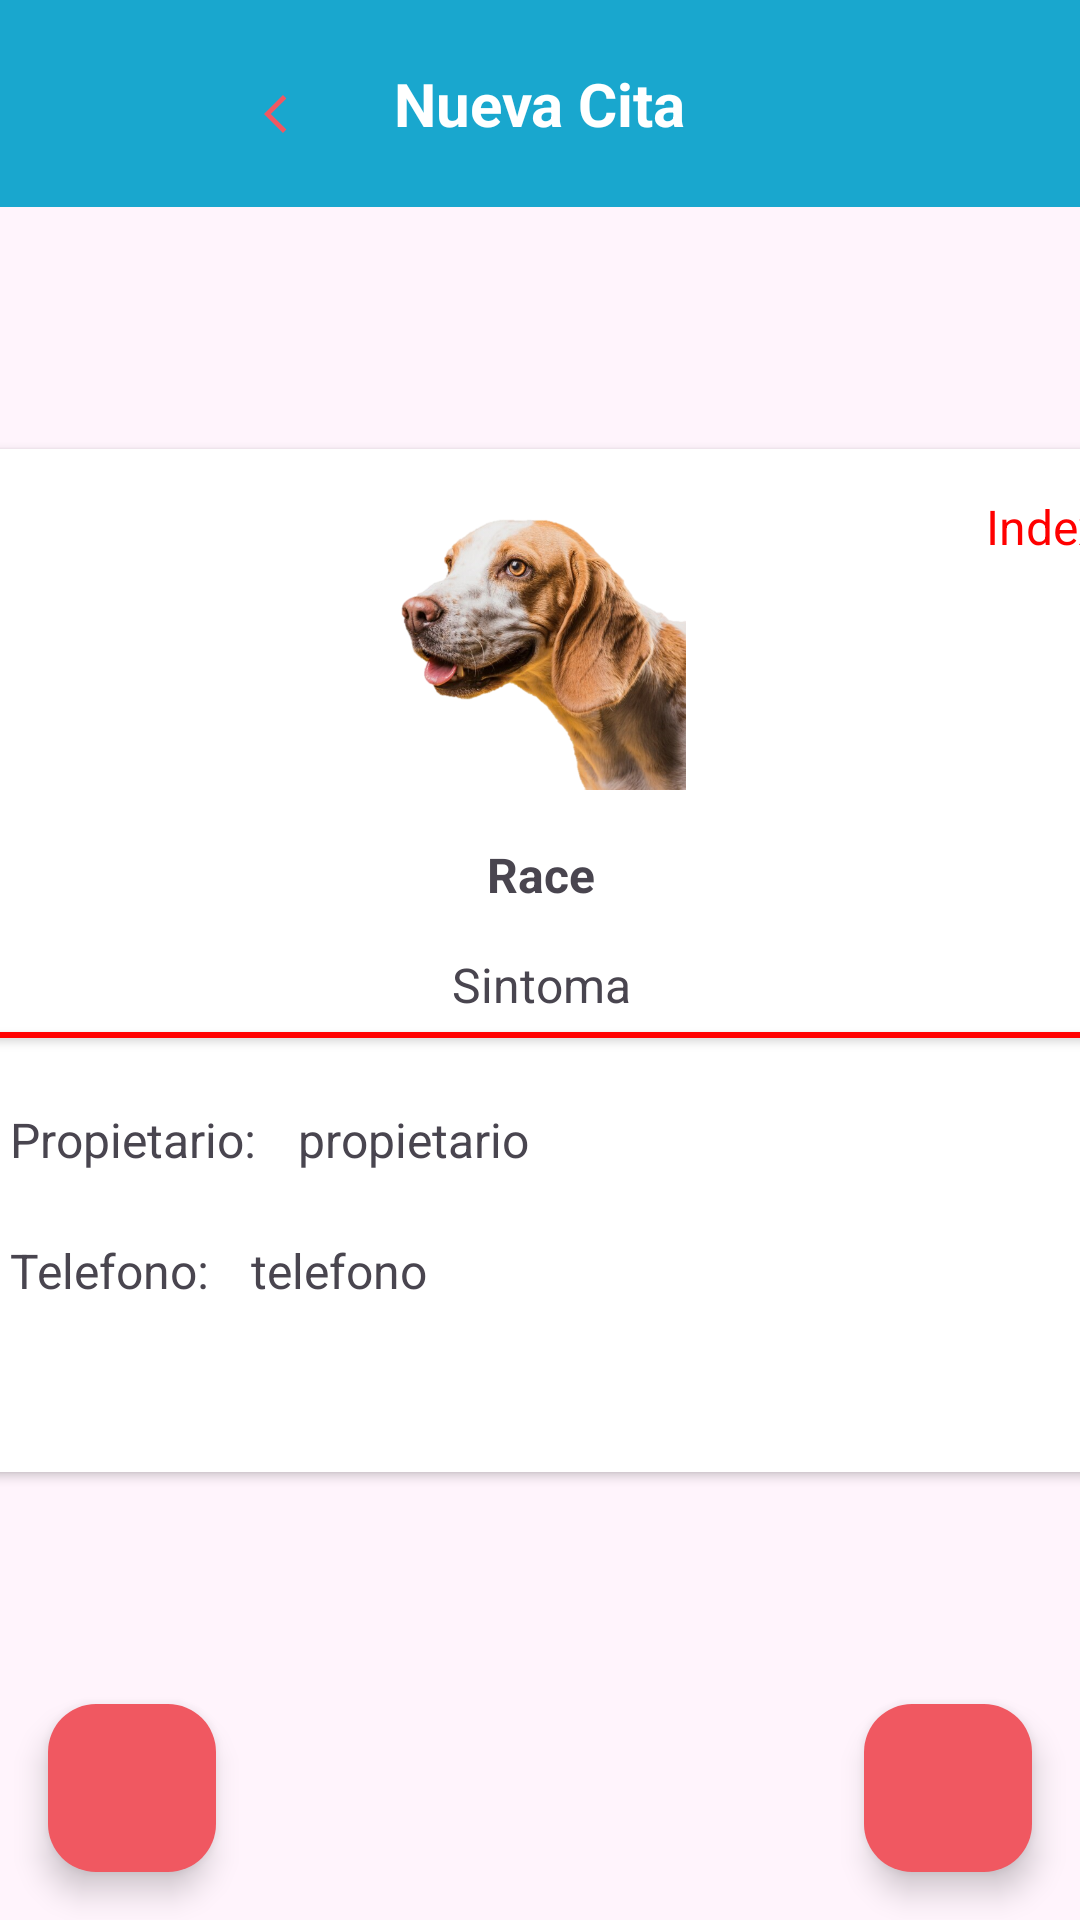

Point at icon controls on the screen. Image size 1080w x 1920h, points as [x,y].
back: [275,114]
